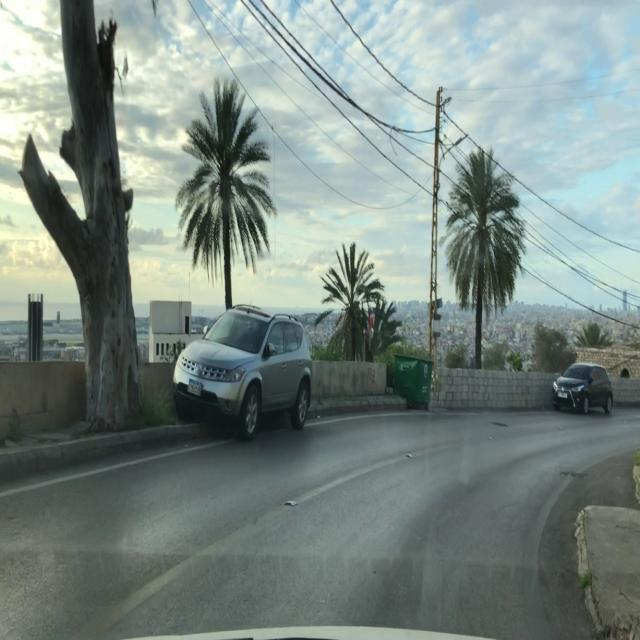Pothole: (559, 470, 589, 482), (491, 420, 509, 430)
